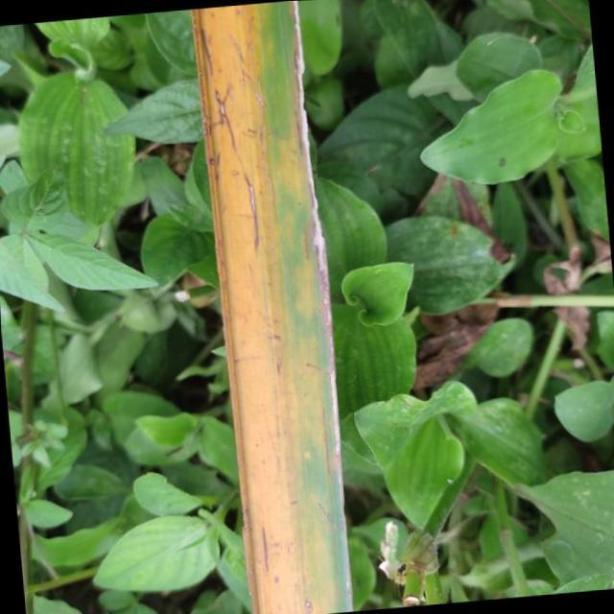Megnesium: (185, 0, 356, 614)
